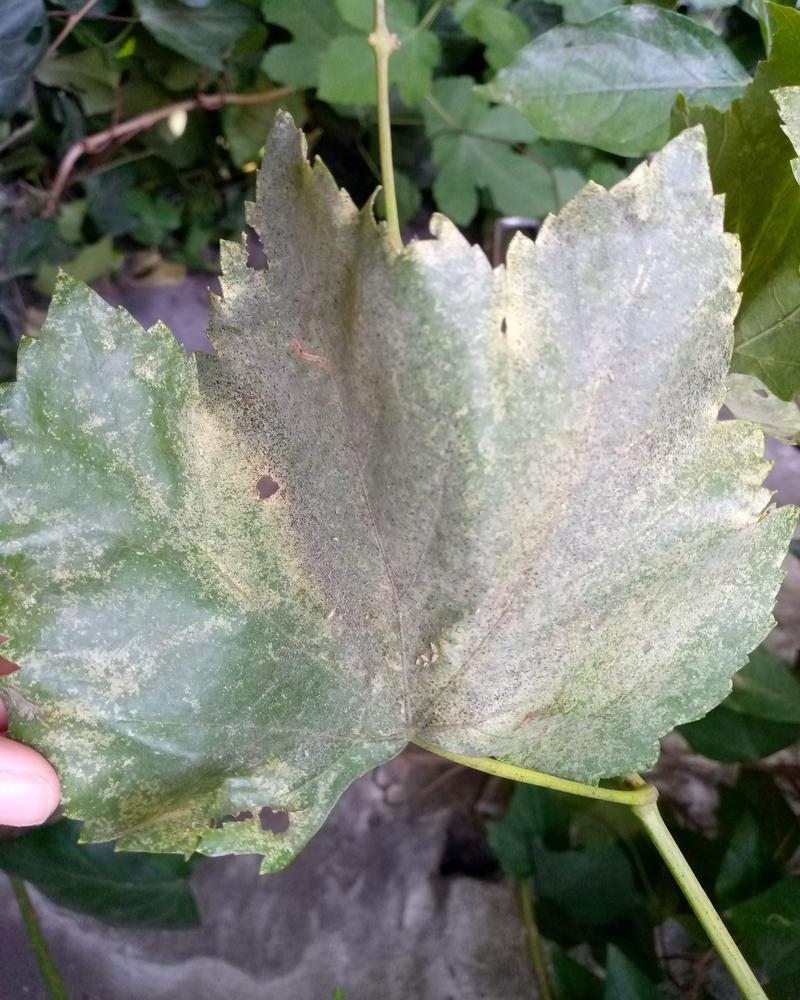Powdery-Mildew: (424, 399, 622, 740), (240, 189, 430, 447), (151, 408, 330, 609), (600, 154, 740, 385), (21, 567, 174, 778), (642, 411, 775, 647), (423, 236, 585, 411), (333, 440, 465, 628), (23, 292, 159, 446), (368, 655, 431, 718)
